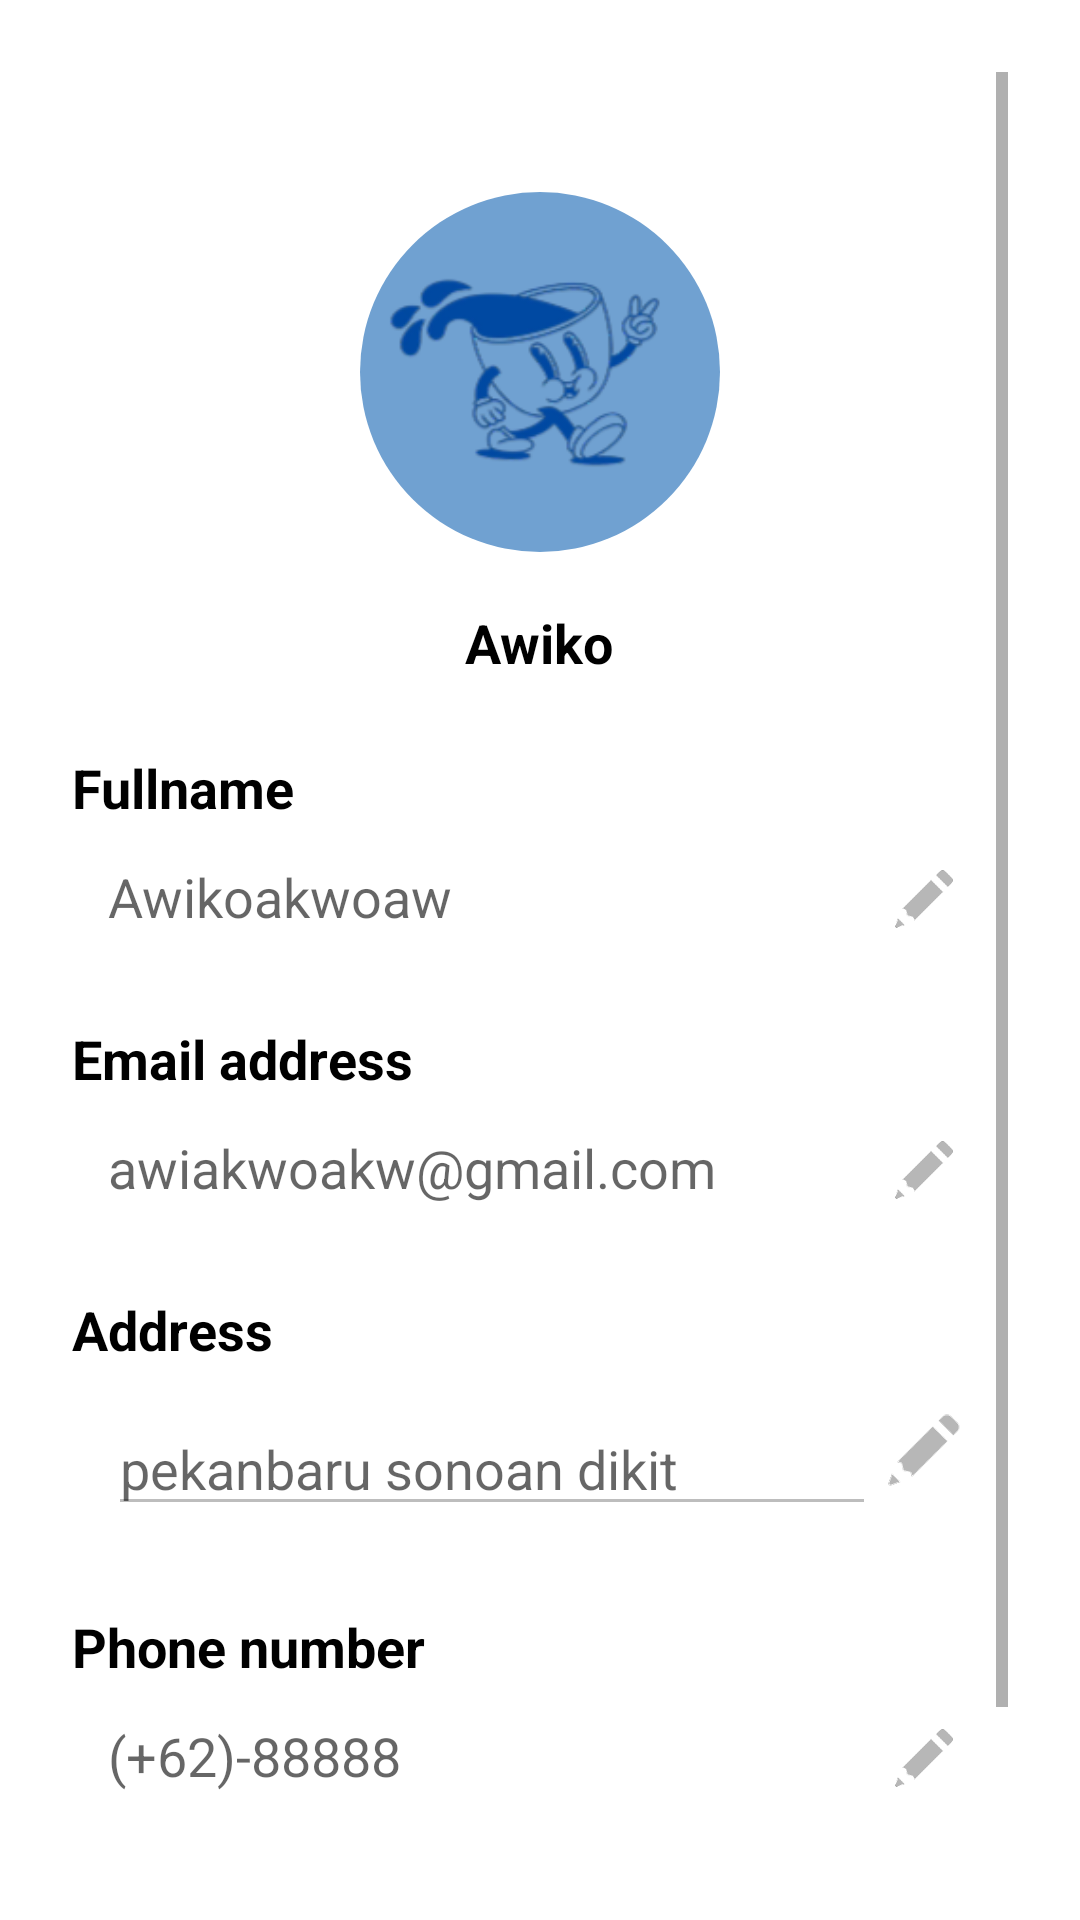

Icons on this 1080px x 1920px Android screen, each with its box as (x1, y1, x2, y2):
Avatar: (360, 192, 720, 552)
